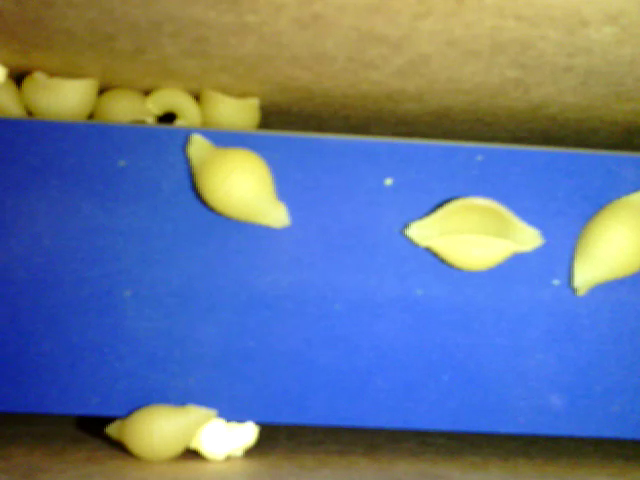elbow: (146, 87, 203, 127)
shell: (403, 193, 547, 273), (184, 131, 290, 228), (571, 190, 639, 297), (105, 403, 217, 460), (18, 71, 98, 123), (198, 84, 260, 130), (96, 89, 156, 126)
